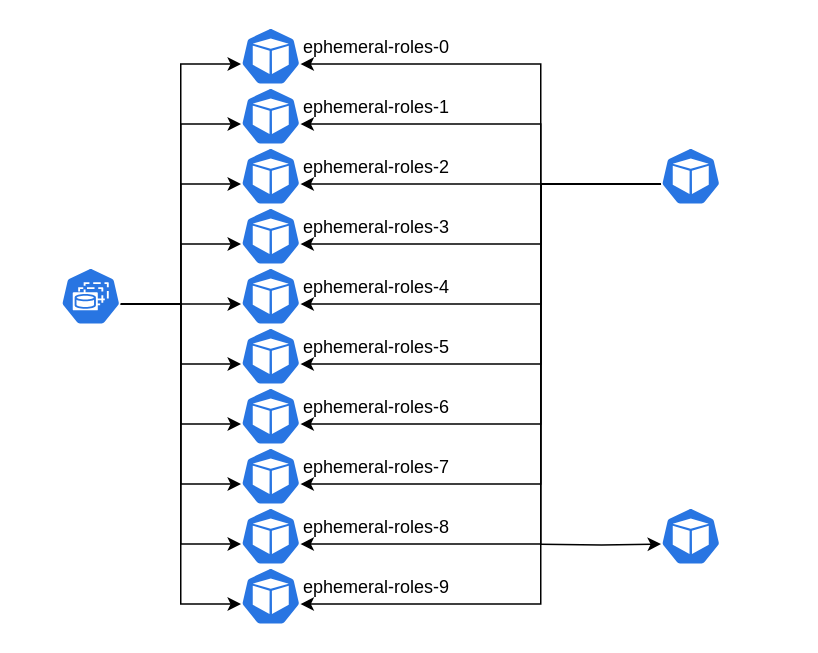
Image size: 818x653. Some labels were removed from this diagram. The centre of each missing label's shape, as x and y in pixels:
"ephemeral-roles" belongs at (90,295).
"ephemeral-roles-informer" belongs at (690,535).
"pod-bouncer" belongs at (690,175).
